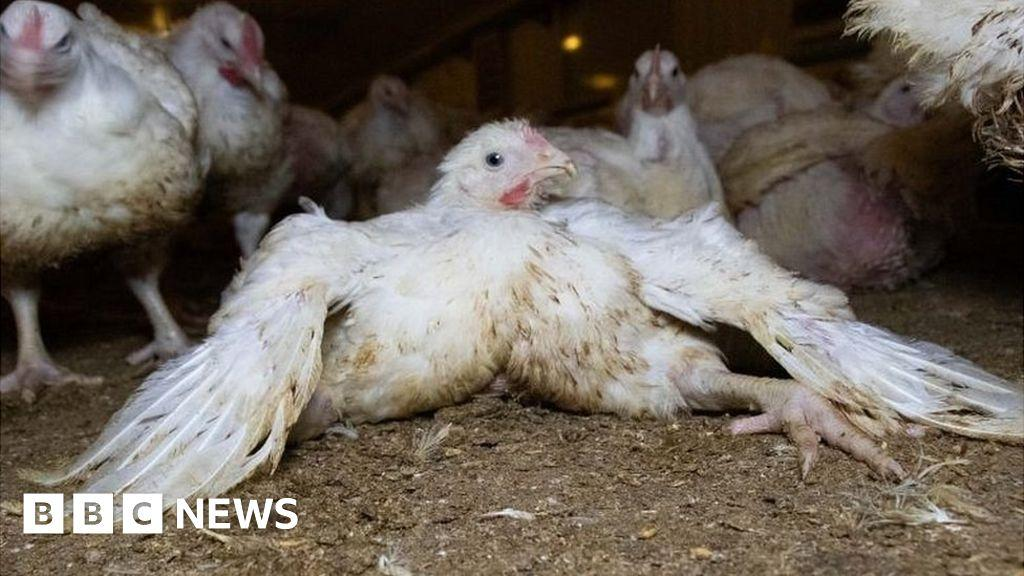AbNormal: (179, 98, 962, 477)
